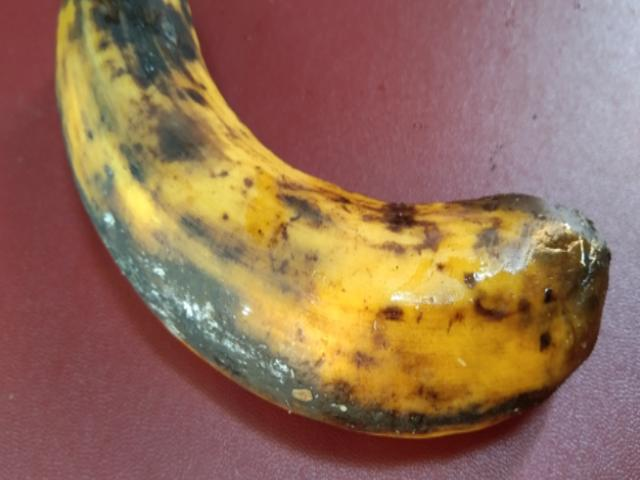rotten: (51, 0, 614, 454)
